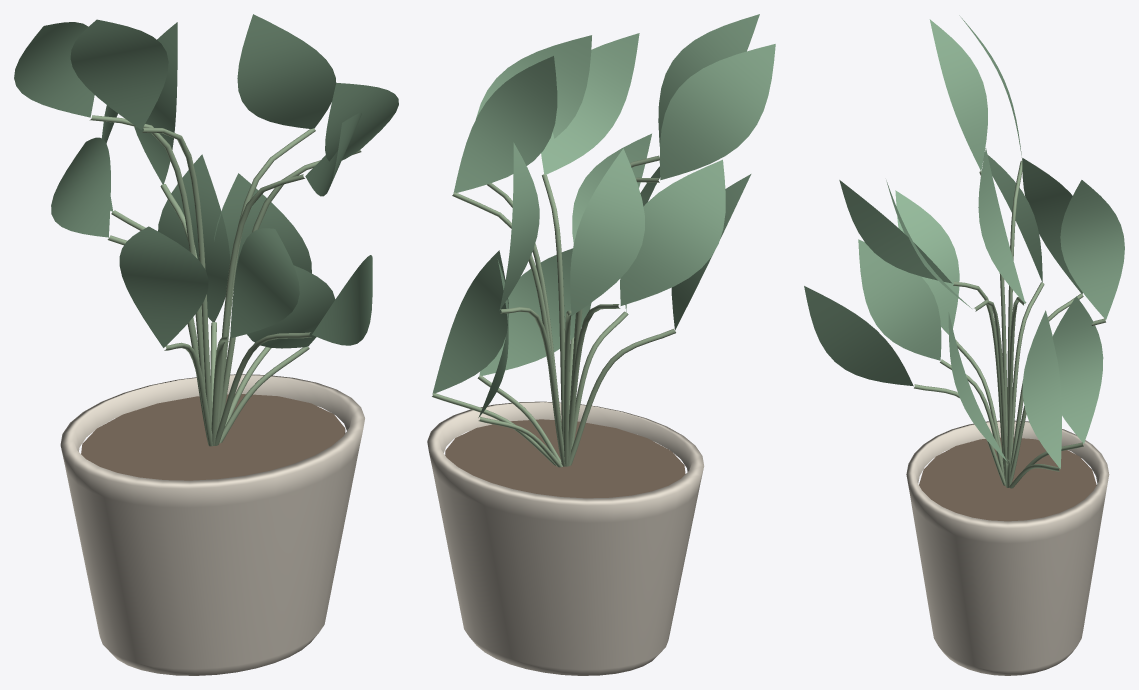
The model's file is plant.glb.
3 views of the same model, side by side, from view 1: azimuth 30°, elevation 25°; view 2: azimuth 150°, elevation 25°; view 3: azimuth 270°, elevation 25° (orthographic). The views are drawn at different scales.
Visible parts, largest first — view 1: plant; view 2: plant; view 3: plant.
Part boxes in pixels (x1=…): plant: x1=14, y1=14, x2=398, y2=675; plant: x1=427, y1=14, x2=775, y2=675; plant: x1=804, y1=15, x2=1124, y2=675.
Bounding box in the file's own units: 0.55 × 1.05 × 0.55.
